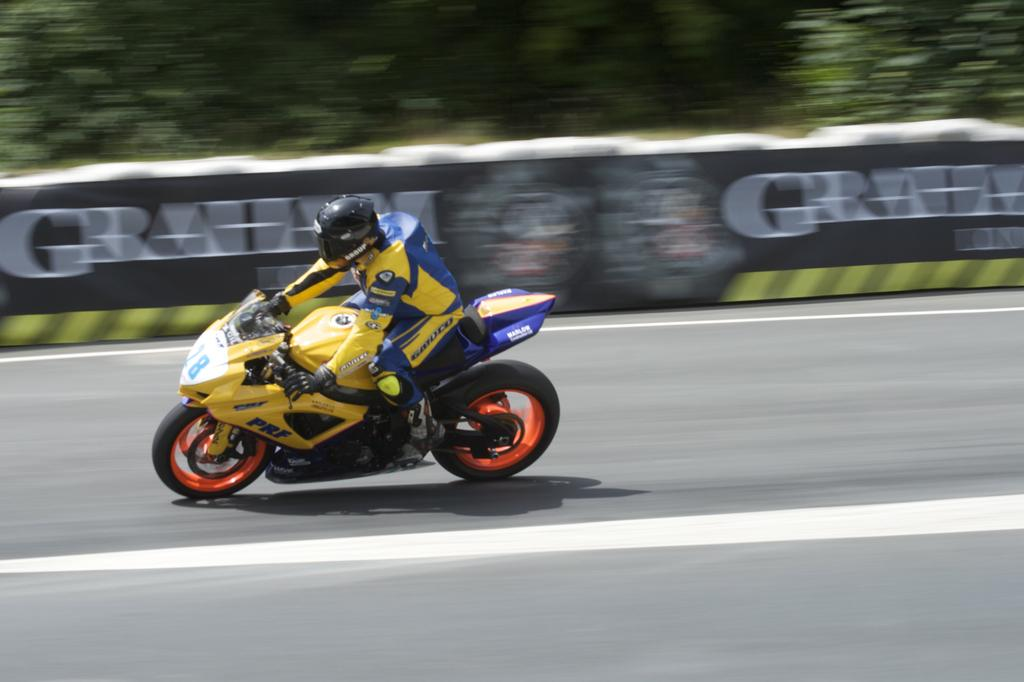helmet: (313, 195, 380, 270)
